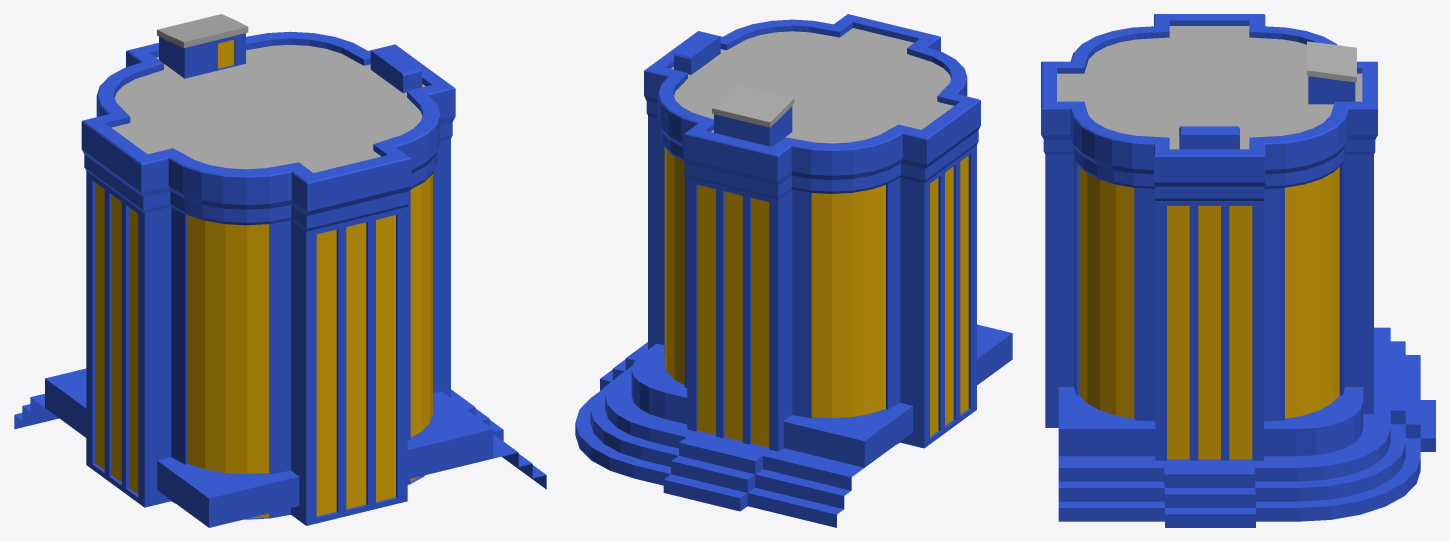
Rendered from Building3.fbx.
3 renders of one model, left to right at view 1: azimuth 30°, elevation 25°; view 2: azimuth 150°, elevation 25°; view 3: azimuth 270°, elevation 25°, orthographic. The views are drawn at different scales.
Visible parts, largest first — view 1: Tower 3, Roof 3, Base 3; view 2: Tower 3, Roof 3, Base 3; view 3: Tower 3, Roof 3, Base 3.
Boxes of the visible parts, box(x1,y1,x2,y2) form: Tower 3: box(86, 138, 450, 525); Roof 3: box(81, 14, 455, 231); Base 3: box(14, 368, 546, 527); Tower 3: box(648, 116, 976, 451); Roof 3: box(644, 14, 980, 199); Base 3: box(575, 324, 1012, 527); Tower 3: box(1045, 154, 1373, 460); Roof 3: box(1041, 14, 1377, 200); Base 3: box(1058, 327, 1435, 527).
Bounding box in the file's own units: 131 × 138 × 131.
